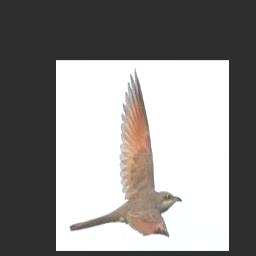Cuckoo: (70, 68, 182, 236)
